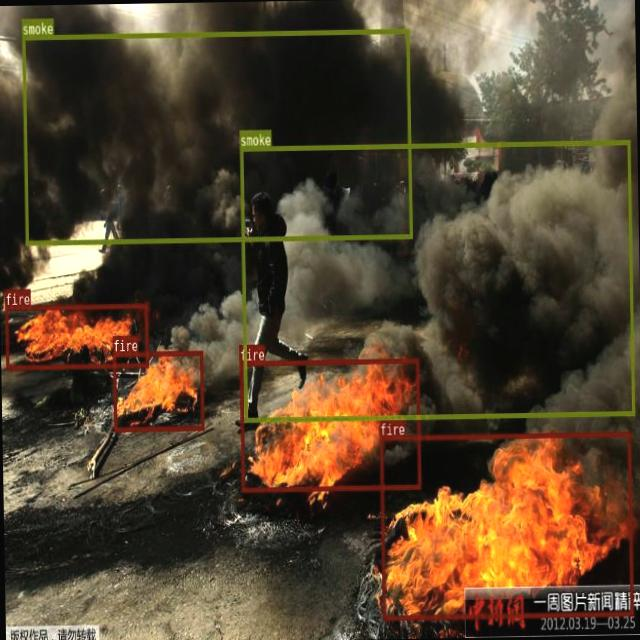fire: (378, 430, 632, 620), (239, 358, 420, 490), (3, 303, 148, 369), (111, 350, 202, 431)
smoke: (239, 138, 635, 422), (21, 27, 412, 245)
